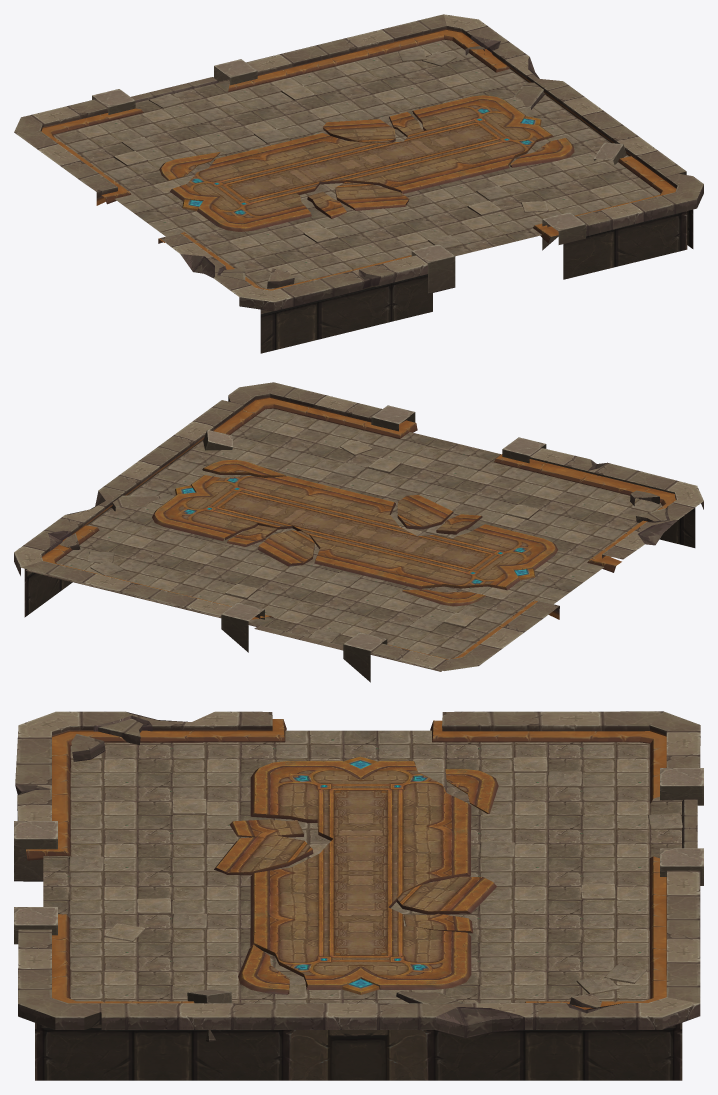
File: terrain_section03_guanka1103.FBX
The picture shows the model from 3 angles, top to bottom: view 1: azimuth 30°, elevation 25°; view 2: azimuth 150°, elevation 25°; view 3: azimuth 270°, elevation 25°; orthographic projection. The views are drawn at different scales.
Parts seen in each view (by area): view 1: terrain_section03_guanka1103; view 2: terrain_section03_guanka1103; view 3: terrain_section03_guanka1103.
Part boxes in pixels (left/top/right/bottom): terrain_section03_guanka1103: left=14, top=14, right=703, bottom=353; terrain_section03_guanka1103: left=14, top=382, right=703, bottom=682; terrain_section03_guanka1103: left=14, top=711, right=703, bottom=1080.
Size of the model in its own units: 30.37 by 3.76 by 28.93.
